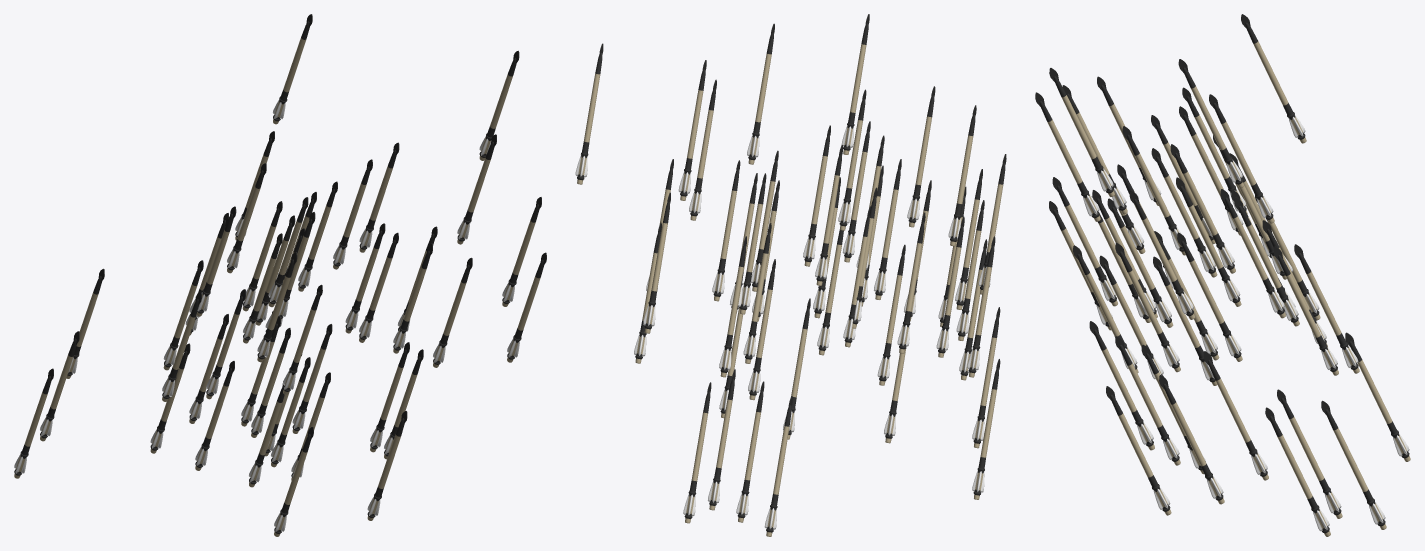
The picture shows the model from 3 angles, left to right: view 1: azimuth 30°, elevation 25°; view 2: azimuth 150°, elevation 25°; view 3: azimuth 270°, elevation 25°; orthographic projection. The views are drawn at different scales.
Visible parts, largest first — view 1: B1; view 2: B1; view 3: B1.
Part boxes in pixels (x1,y1,x2,y2): B1: (14,14,546,536); B1: (575,14,1006,536); B1: (1035,14,1410,536).
Size of the model in its own units: 1.25 by 1.31 by 0.8736.
